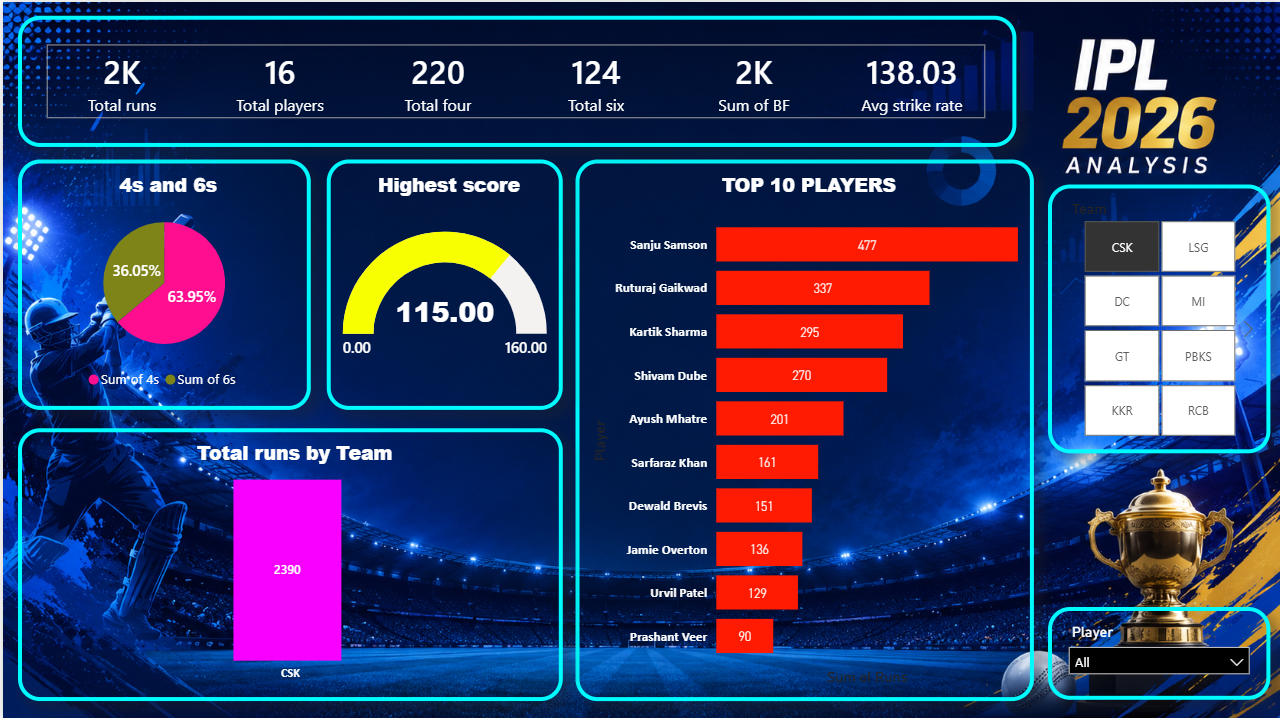

The dashboard page shown, as its layout file describes it:
{"tool":"powerbi","page":{"name":"Page 1","canvas":[1280,720],"ordinal":0},"visuals":[{"type":"barChart","title":"TOP 10 PLAYERS","fields":{"Category":["IPL2026.Player"],"Y":["Sum(IPL2026.Runs)"]},"box":[572.4,156.9,458.6,541.4],"z":0},{"type":"pieChart","title":"4s and 6s","fields":{"Y":["Sum(IPL2026.4s)","Sum(IPL2026.6s)"]},"box":[15,157.5,292.5,250],"z":1000},{"type":"columnChart","fields":{"Category":["IPL2026.Team"],"Y":["IPL2026.Total runs"]},"box":[15.5,425.9,544.8,272.4],"z":2000},{"type":"cardVisual","fields":{"Data":["IPL2026.Total runs","IPL2026.Total players","IPL2026.Total four","IPL2026.Total six","Sum(IPL2026.BF)","IPL2026.Avg strike rate"]},"box":[15.5,13.8,998.3,131],"z":3000},{"type":"slicer","fields":{"Values":["IPL2026.Team"]},"box":[1044.8,182.8,222.4,269],"z":4000},{"type":"slicer","title":"PLAYERS","fields":{"Values":["IPL2026.Player"]},"box":[1044.8,605.2,222.4,93.1],"z":5000},{"type":"gauge","fields":{"Y":["IPL2026.Highest score"]},"box":[323.8,157.5,236.2,250],"z":7000}]}

Visuals, with their boxes in screenshot pixels (x1, y1, x2, y2), scaled from the page's 1280x720 canvas onto the 1280x718 screenshot:
"TOP 10 PLAYERS" barChart: [572, 156, 1031, 696]
"4s and 6s" pieChart: [15, 157, 308, 406]
columnChart - IPL2026.Team x IPL2026.Total runs: [16, 425, 560, 696]
cardVisual - IPL2026.Total runs x IPL2026.Total players: [16, 14, 1014, 144]
slicer - IPL2026.Team: [1045, 182, 1267, 451]
"PLAYERS" slicer: [1045, 604, 1267, 696]
gauge - IPL2026.Highest score: [324, 157, 560, 406]
